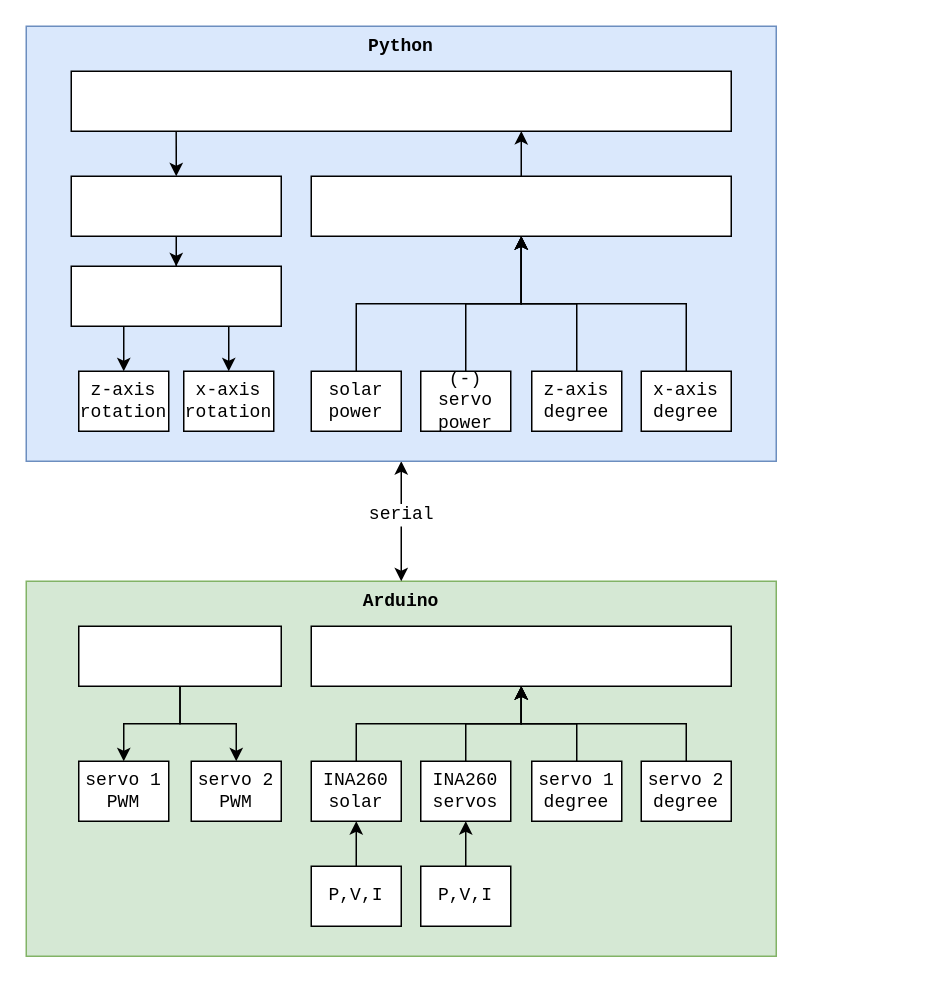
Image size: 930x983. Some labels were removed from this diagram. Here are the shapes that lost their labels. From the top down, the box of each, then its label:
(70, 70, 731, 131): RL agent
(70, 175, 281, 236): actions
(310, 175, 731, 236): state
(70, 265, 281, 326): change panel position
(77, 625, 281, 686): Arduino actions
(310, 625, 731, 686): Arduino data
